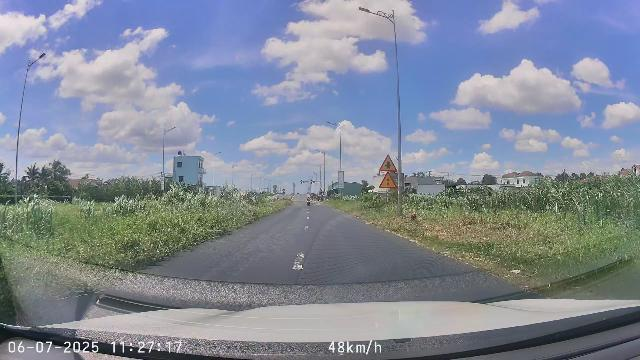207-giao-nhau-voi-duong-khong-uu-tien: (379, 154, 397, 172)
209-giao-nhau-co-tin-hieu-den: (379, 172, 397, 188)
